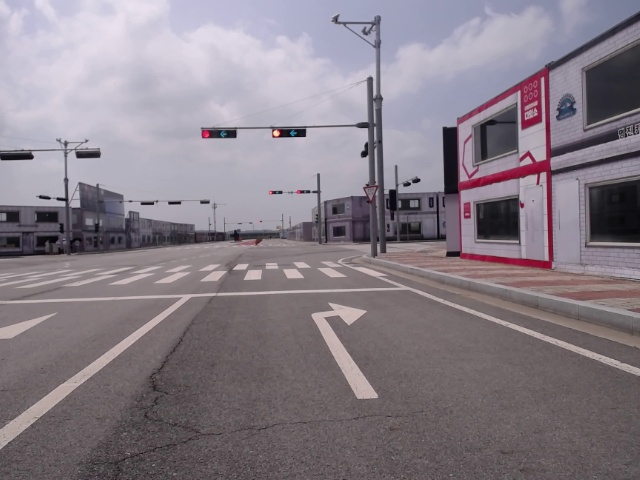left_green_4: (201, 129, 237, 138), (272, 129, 305, 137)
